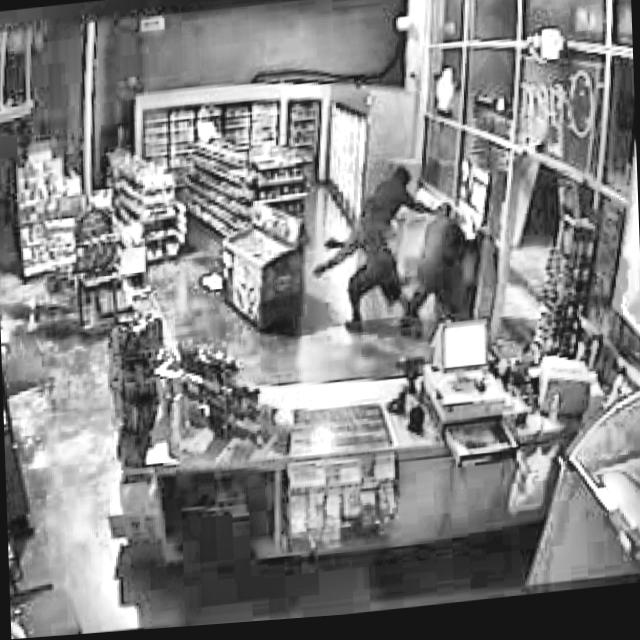burglary: (302, 158, 488, 354)
